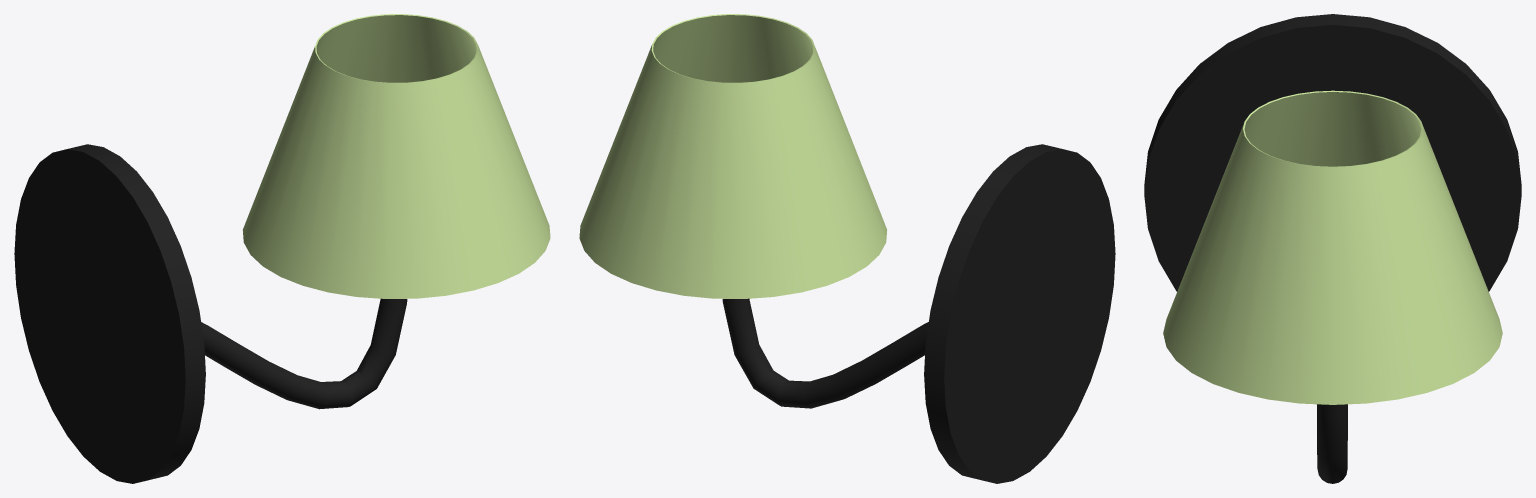
File: lampara-pared.fbx
3 renders of one model, left to right at view 1: azimuth 30°, elevation 25°; view 2: azimuth 150°, elevation 25°; view 3: azimuth 270°, elevation 25°, orthographic. The views are drawn at different scales.
Parts seen in each view (by area): view 1: Circle.001; view 2: Circle.001; view 3: Circle.001.
Boxes of the visible parts, x1,y1,x2,y2 form: Circle.001: (14, 14, 550, 483); Circle.001: (579, 14, 1115, 483); Circle.001: (1144, 14, 1521, 483).
Size of the model in its own units: 72.87 by 56.82 by 50.27.
